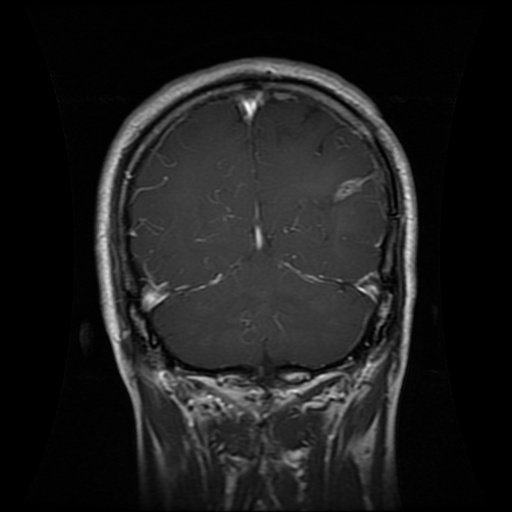glioma: (296, 176, 366, 247)
